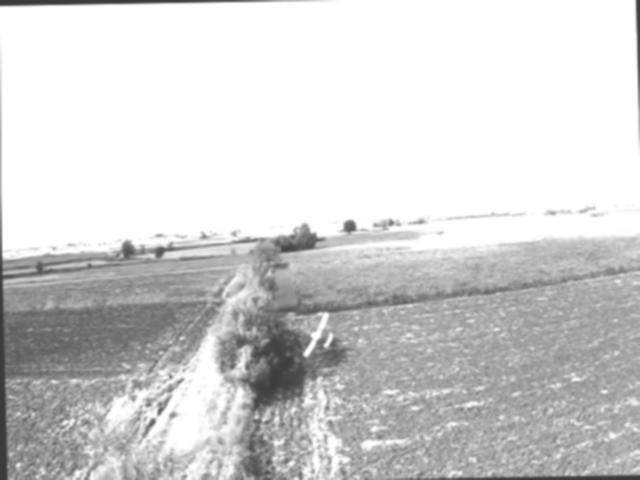hedef: (298, 308, 337, 362)
